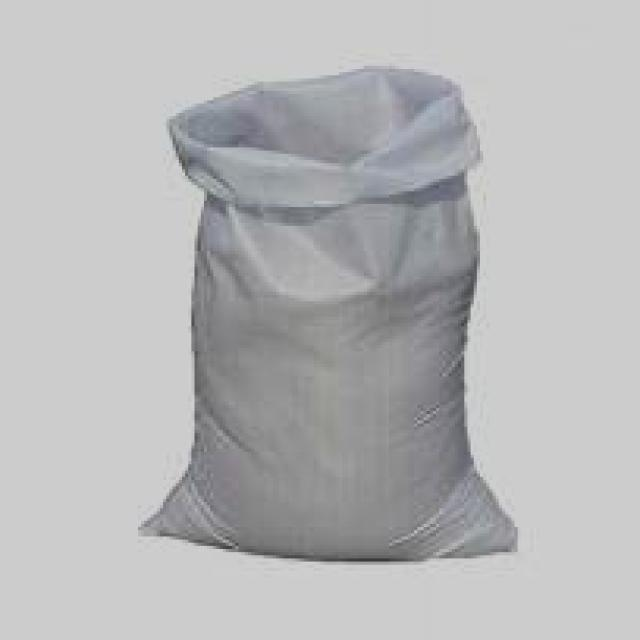gunny_bag: (125, 58, 530, 563)
